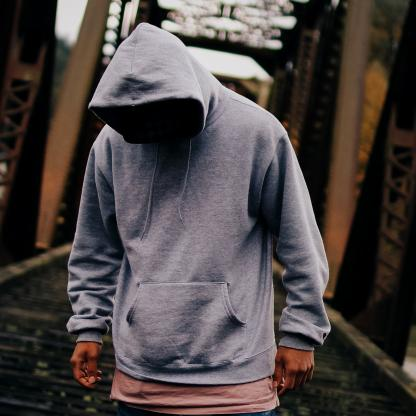dress: (63, 14, 335, 388)
